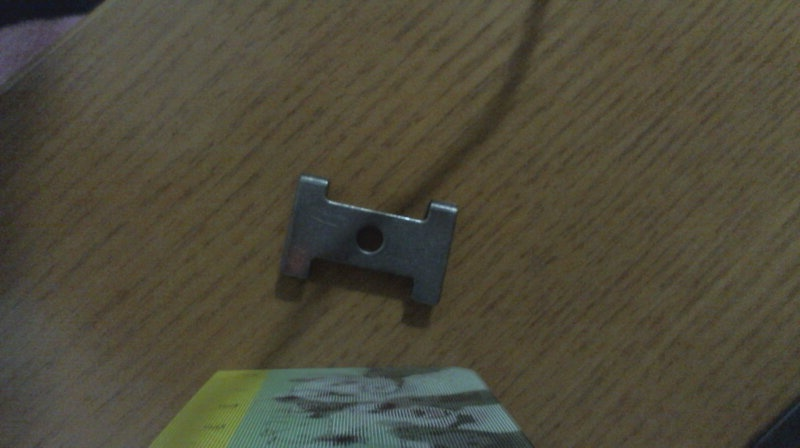O002: (279, 172, 463, 309)
